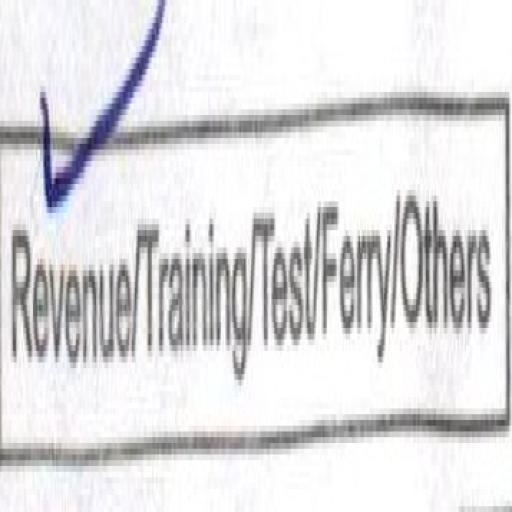check: (0, 2, 142, 503)
